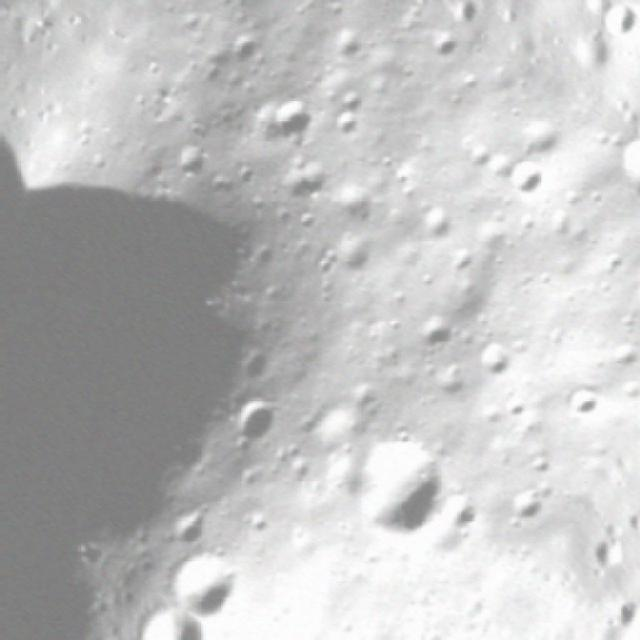crater: (322, 413, 472, 569), (156, 539, 249, 630), (212, 376, 298, 467), (581, 124, 640, 227), (256, 86, 333, 163), (460, 327, 526, 391), (492, 477, 556, 541), (317, 228, 383, 290), (492, 150, 552, 208), (402, 309, 461, 366), (159, 134, 218, 191), (560, 377, 617, 434), (221, 21, 274, 74), (443, 22, 503, 61), (161, 509, 205, 557)
